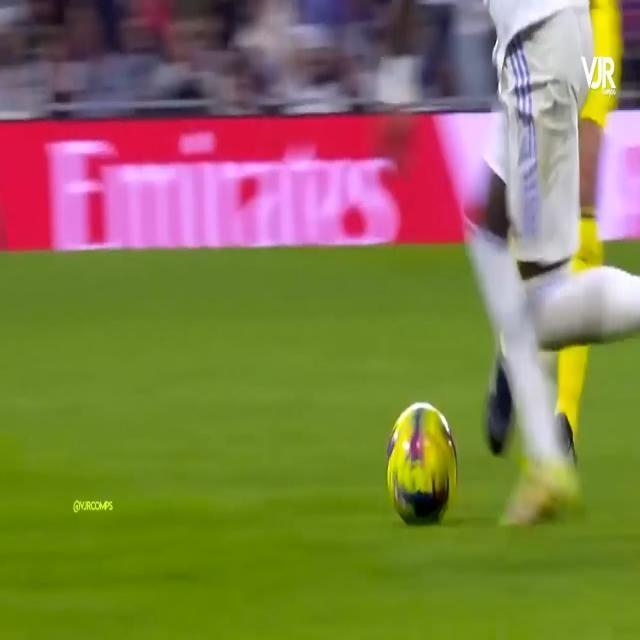ball: (391, 410, 460, 534)
player: (455, 0, 640, 537)
